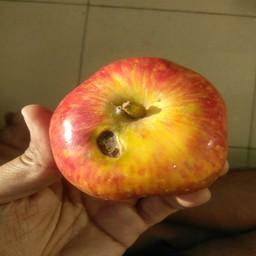Bad_apple: (48, 50, 230, 202)
